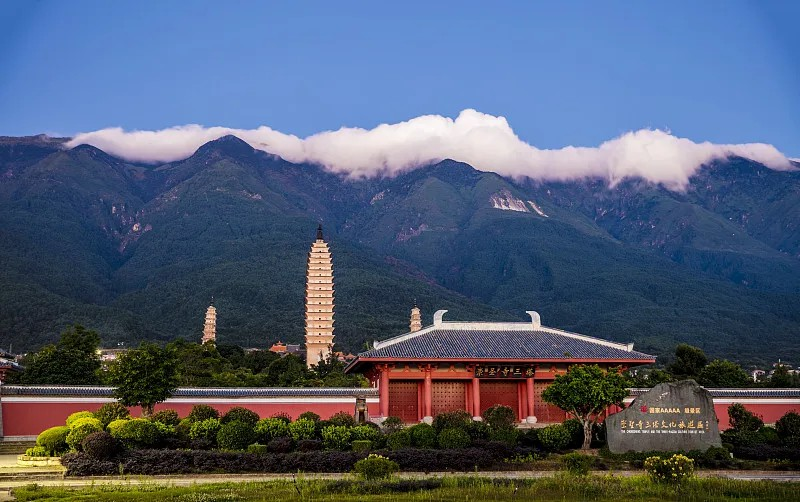ThreePagoda: (305, 223, 335, 370)
